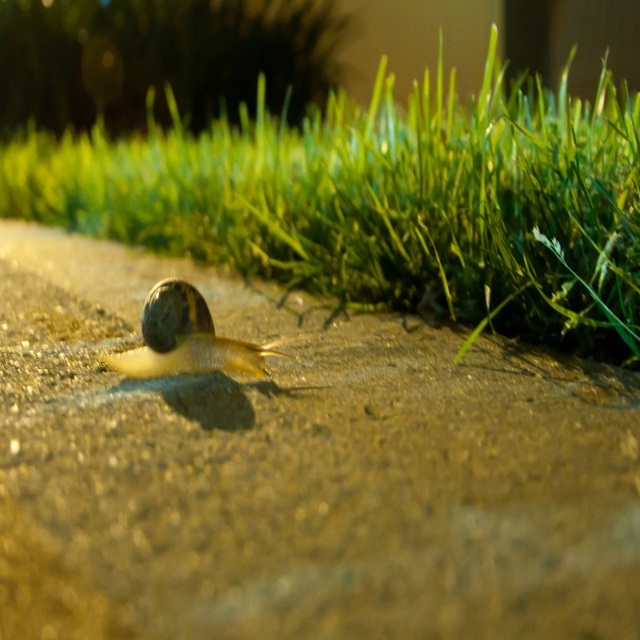Snail: (96, 277, 305, 384)
